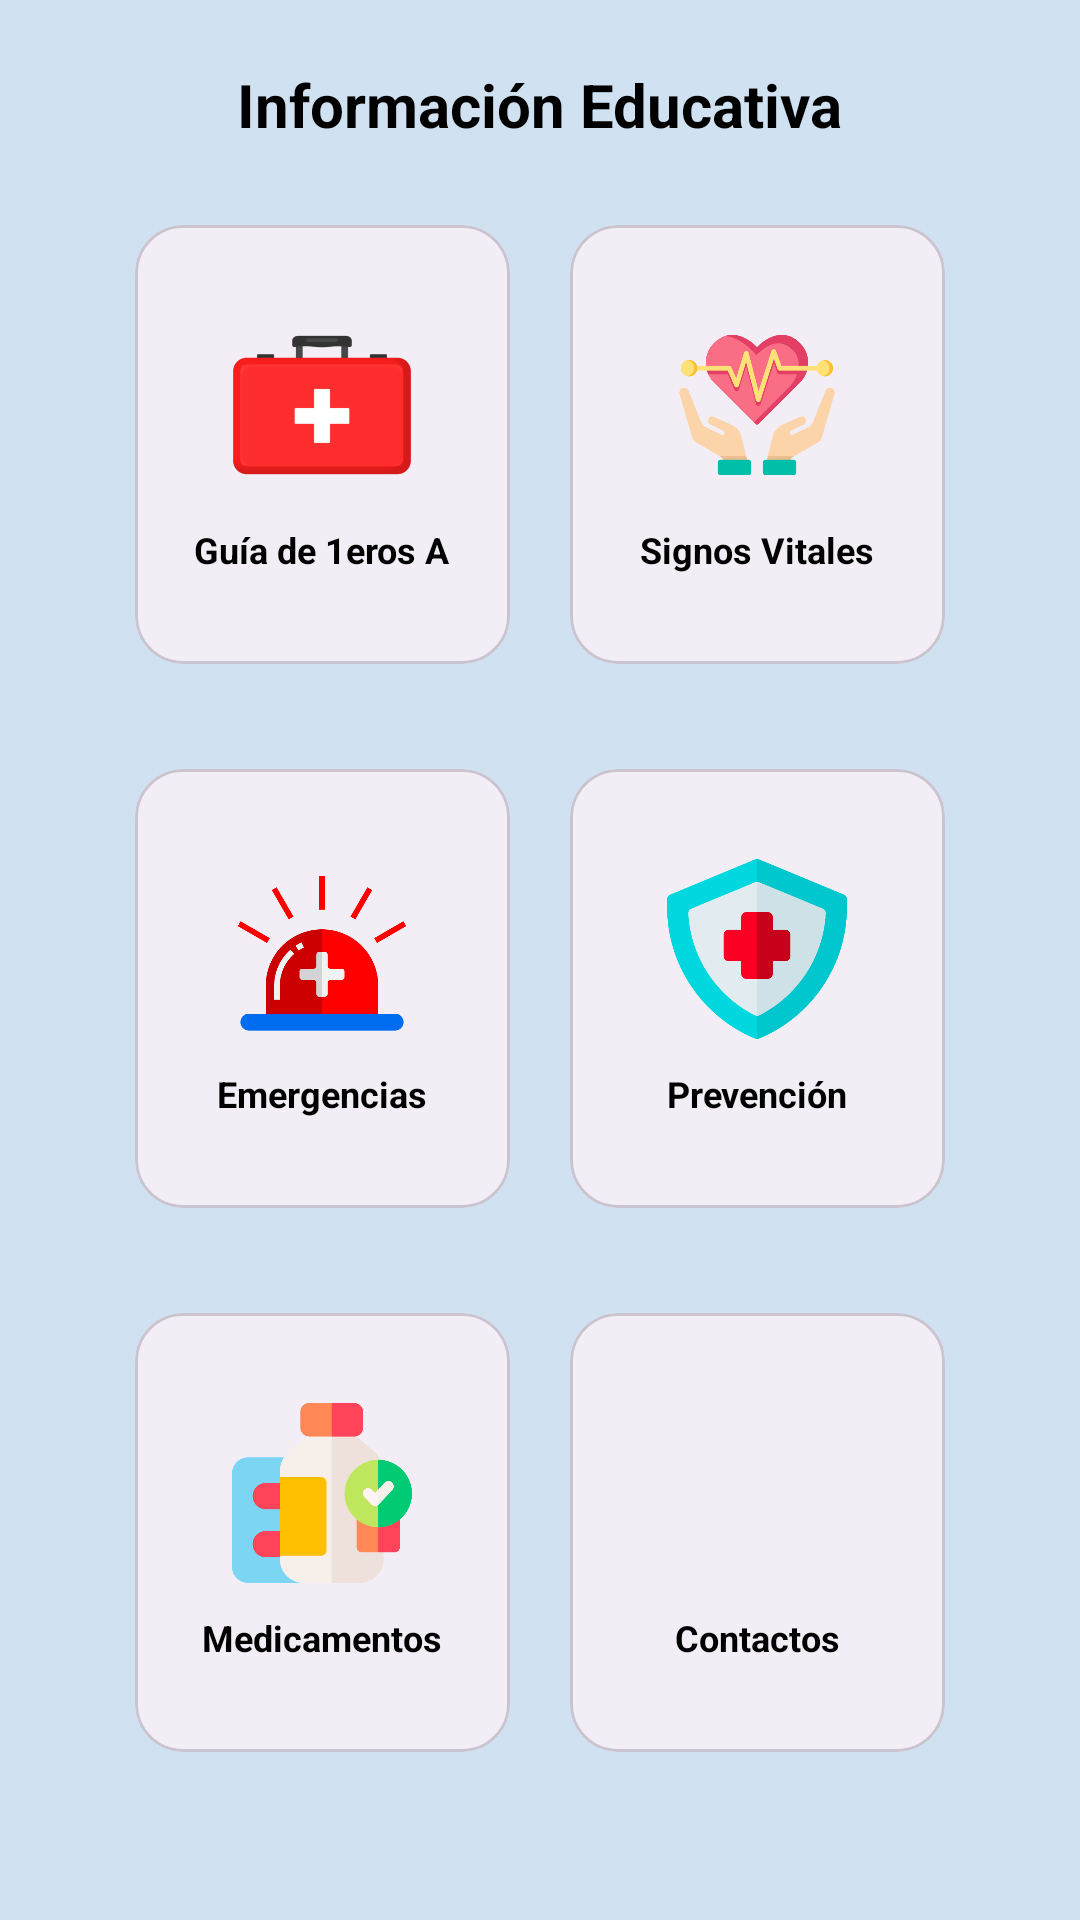

Where to tap for icons on this 1080×1920 app screen, as (x=x, y=y):
corazon: (x=757, y=405)
escudo: (x=757, y=949)
maletin: (x=322, y=405)
pastillas: (x=322, y=1493)
sirena: (x=322, y=953)
